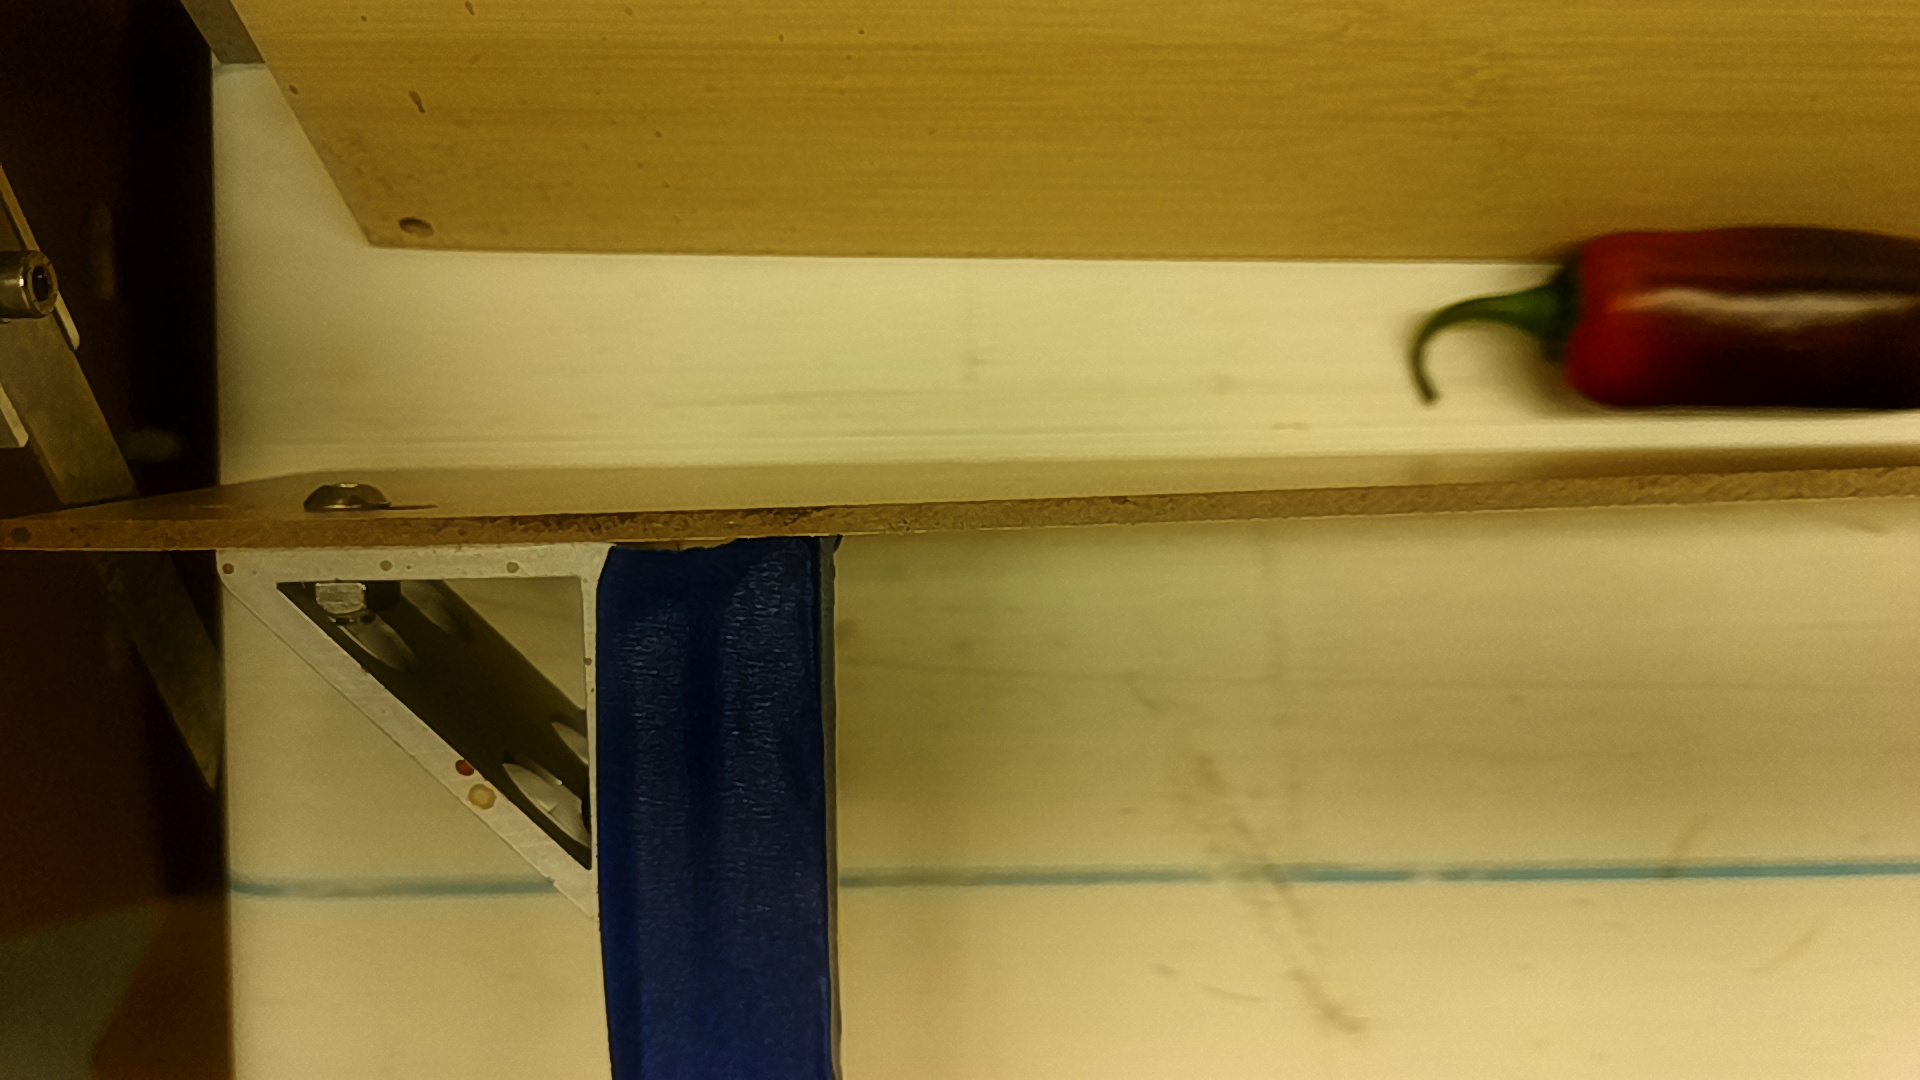Cut Point: (1528, 224, 1623, 410)
